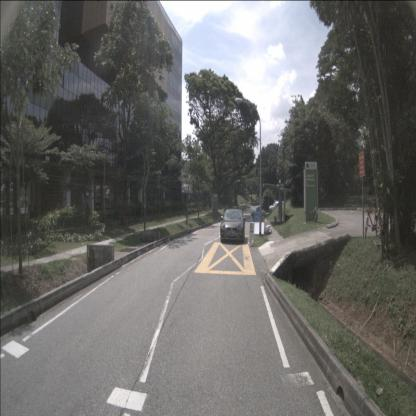human-pedestrian-adult: (86, 197, 90, 213), (83, 198, 86, 213)
vehicle-bicycle: (364, 198, 384, 239)
vehicle-car: (220, 209, 245, 243), (268, 201, 290, 215)
